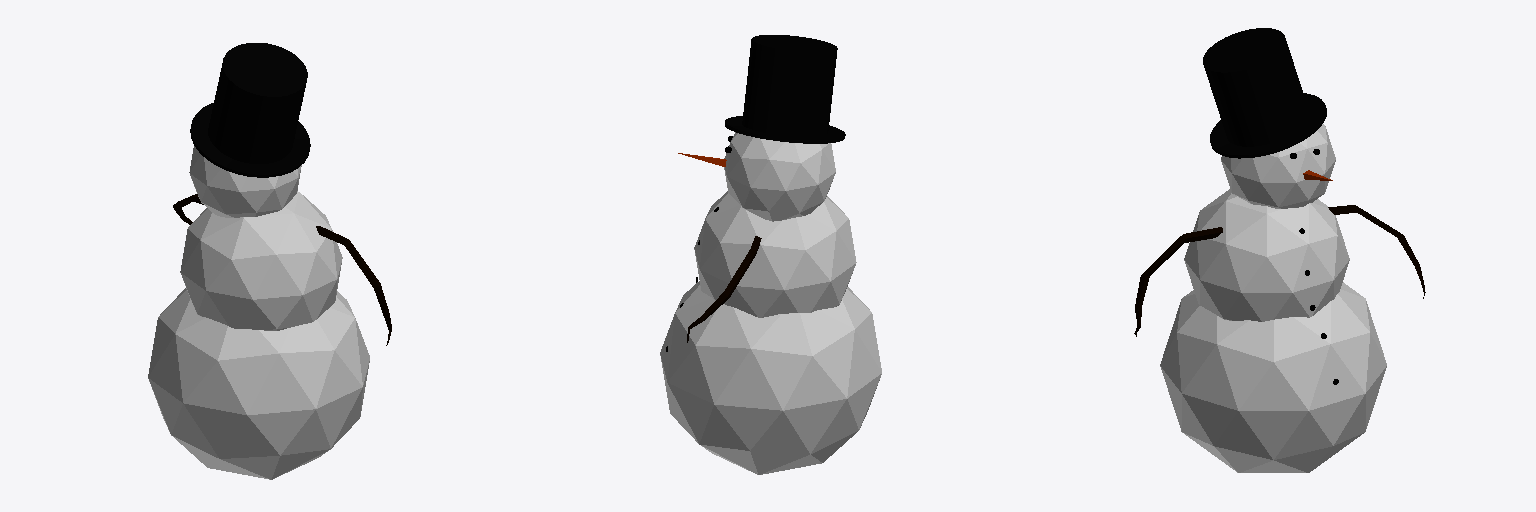
File: snowman.obj
3 views of the same model, side by side, from view 1: azimuth 30°, elevation 25°; view 2: azimuth 150°, elevation 25°; view 3: azimuth 270°, elevation 25° (orthographic).
Parts seen in each view (by area): view 1: Icosphere, Icosphere.001, Cylinder, Icosphere.002_Icosphere.004, Cube_Cube.001; view 2: Icosphere, Icosphere.001, Cylinder, Icosphere.002_Icosphere.004, Cube.001_Cube.002; view 3: Icosphere, Icosphere.001, Cylinder, Icosphere.002_Icosphere.004, Cube_Cube.001, Cube.001_Cube.002.
Boxes of the visible parts, x1=… form: Icosphere: x1=148, y1=288, x2=369, y2=479; Icosphere.001: x1=180, y1=191, x2=342, y2=330; Cylinder: x1=190, y1=43, x2=310, y2=177; Icosphere.002_Icosphere.004: x1=189, y1=146, x2=301, y2=217; Cube_Cube.001: x1=316, y1=226, x2=391, y2=345; Icosphere: x1=660, y1=281, x2=881, y2=474; Icosphere.001: x1=694, y1=191, x2=856, y2=317; Cylinder: x1=725, y1=35, x2=845, y2=143; Icosphere.002_Icosphere.004: x1=724, y1=132, x2=835, y2=221; Cube.001_Cube.002: x1=687, y1=236, x2=761, y2=342; Icosphere: x1=1160, y1=282, x2=1386, y2=472; Icosphere.001: x1=1184, y1=189, x2=1349, y2=321; Cylinder: x1=1203, y1=28, x2=1326, y2=158; Icosphere.002_Icosphere.004: x1=1221, y1=124, x2=1335, y2=208; Cube_Cube.001: x1=1134, y1=227, x2=1222, y2=336; Cube.001_Cube.002: x1=1328, y1=205, x2=1425, y2=298.
Bounding box in the file's own units: 3.75 × 8.12 × 5.04.